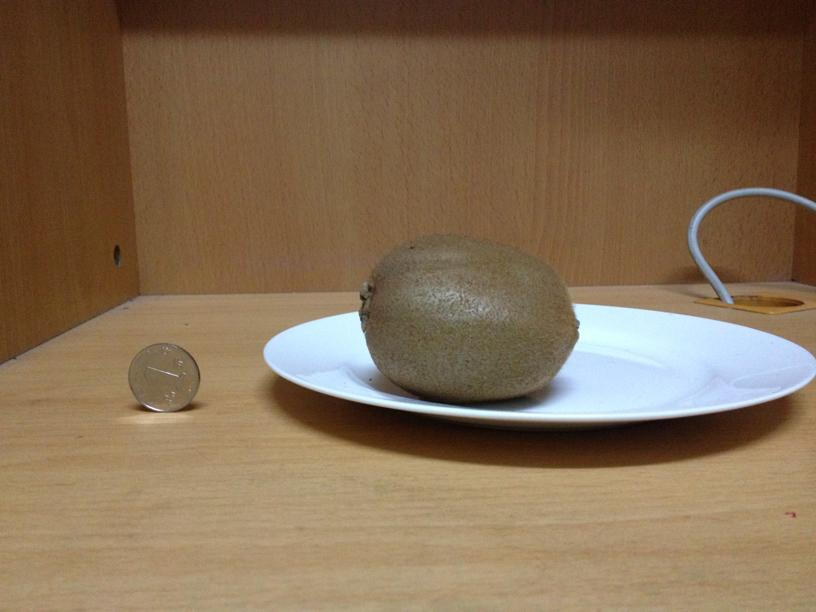coin: (128, 344, 202, 414)
qiwi: (357, 237, 578, 397)
